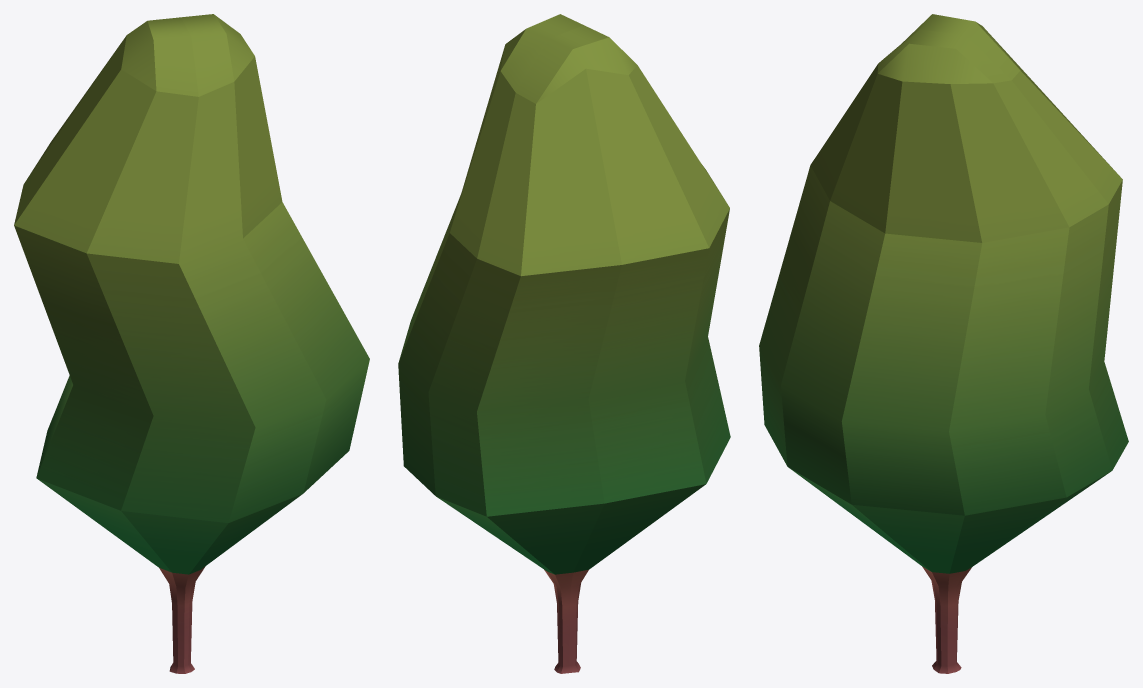
The model's file is Spruce_Lgreen 1.fbx.
3 views of the same model, side by side, from view 1: azimuth 30°, elevation 25°; view 2: azimuth 150°, elevation 25°; view 3: azimuth 270°, elevation 25° (orthographic).
Parts seen in each view (by area): view 1: Spruce_Lgreen; view 2: Spruce_Lgreen; view 3: Spruce_Lgreen.
Part boxes in pixels (left/top/right/bottom): Spruce_Lgreen: left=14, top=14, right=369, bottom=673; Spruce_Lgreen: left=398, top=14, right=730, bottom=673; Spruce_Lgreen: left=759, top=14, right=1128, bottom=673.
Bounding box in the file's own units: 18.2 × 35.73 × 18.78.
